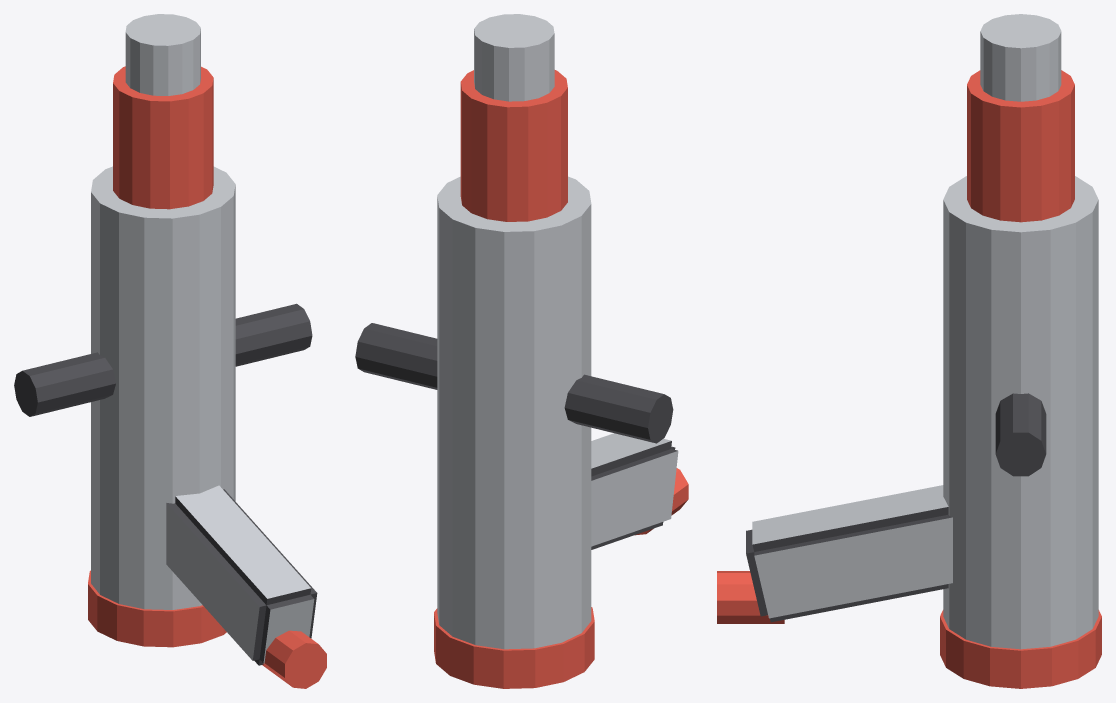
The model's file is Prop_WheelGun.fbx.
3 renders of one model, left to right at view 1: azimuth 30°, elevation 25°; view 2: azimuth 150°, elevation 25°; view 3: azimuth 270°, elevation 25°, orthographic. The views are drawn at different scales.
Visible parts, largest first — view 1: Prop_WheelGun; view 2: Prop_WheelGun; view 3: Prop_WheelGun.
Boxes of the visible parts, x1,y1,x2,y2 form: Prop_WheelGun: [14, 14, 326, 688]; Prop_WheelGun: [355, 14, 688, 688]; Prop_WheelGun: [717, 14, 1101, 688].
Bounding box in the file's own units: 0.2 × 0.4075 × 0.228.
